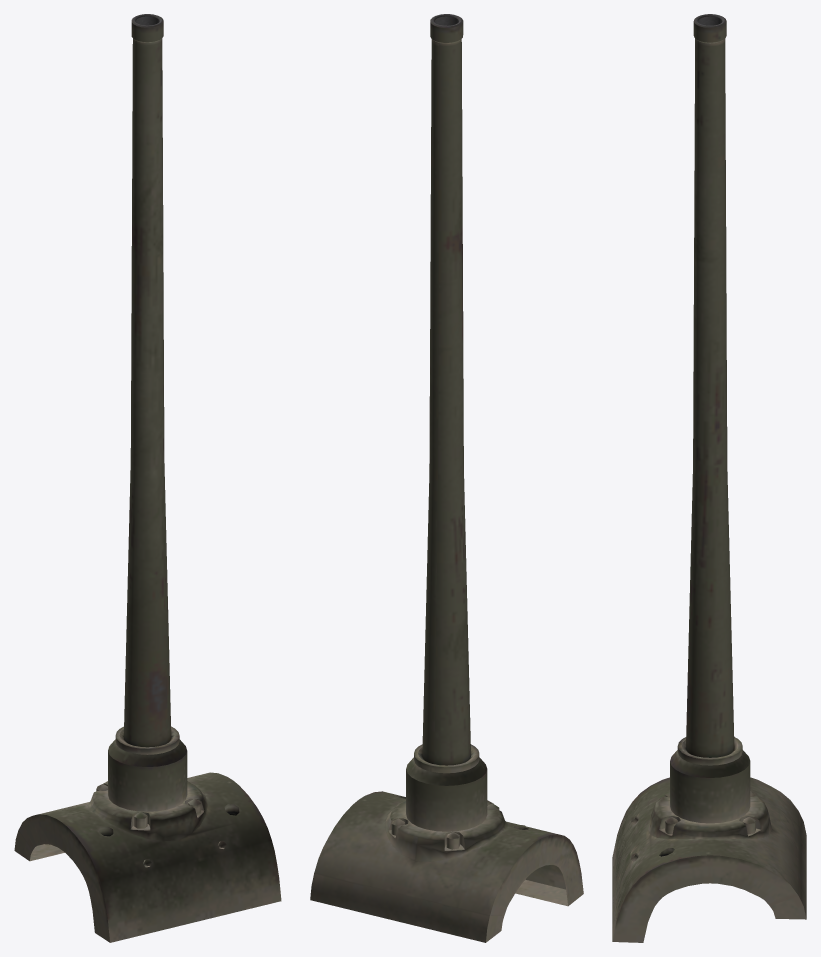
Rendered from Gun_05.glb.
3 views of the same model, side by side, from view 1: azimuth 30°, elevation 25°; view 2: azimuth 150°, elevation 25°; view 3: azimuth 270°, elevation 25° (orthographic). The views are drawn at different scales.
Parts seen in each view (by area): view 1: set_0_group_0; view 2: set_0_group_0; view 3: set_0_group_0.
Part boxes in pixels (x1=…): set_0_group_0: x1=14, y1=14, x2=281, y2=942; set_0_group_0: x1=310, y1=14, x2=583, y2=942; set_0_group_0: x1=612, y1=14, x2=806, y2=942.
Bounding box in the file's own units: 0.7035 × 3.4 × 0.6787.
1 material, 1 textured.
